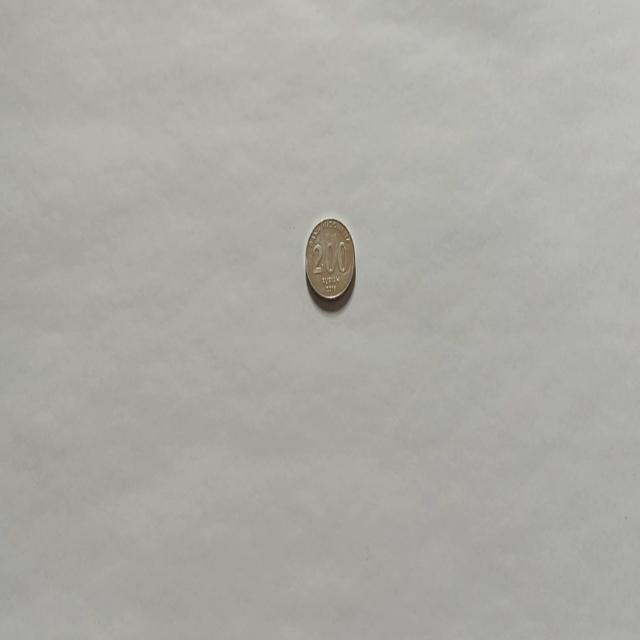dua ratus rupiah: (304, 215, 356, 303)
